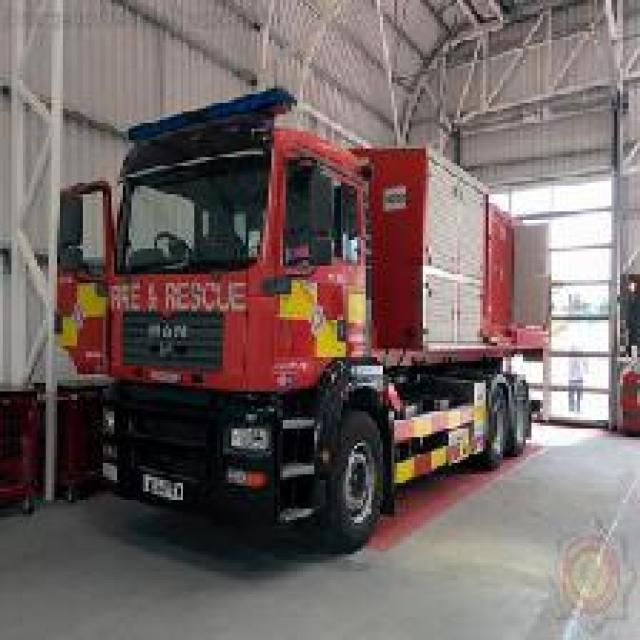emergency: (46, 82, 554, 554)
